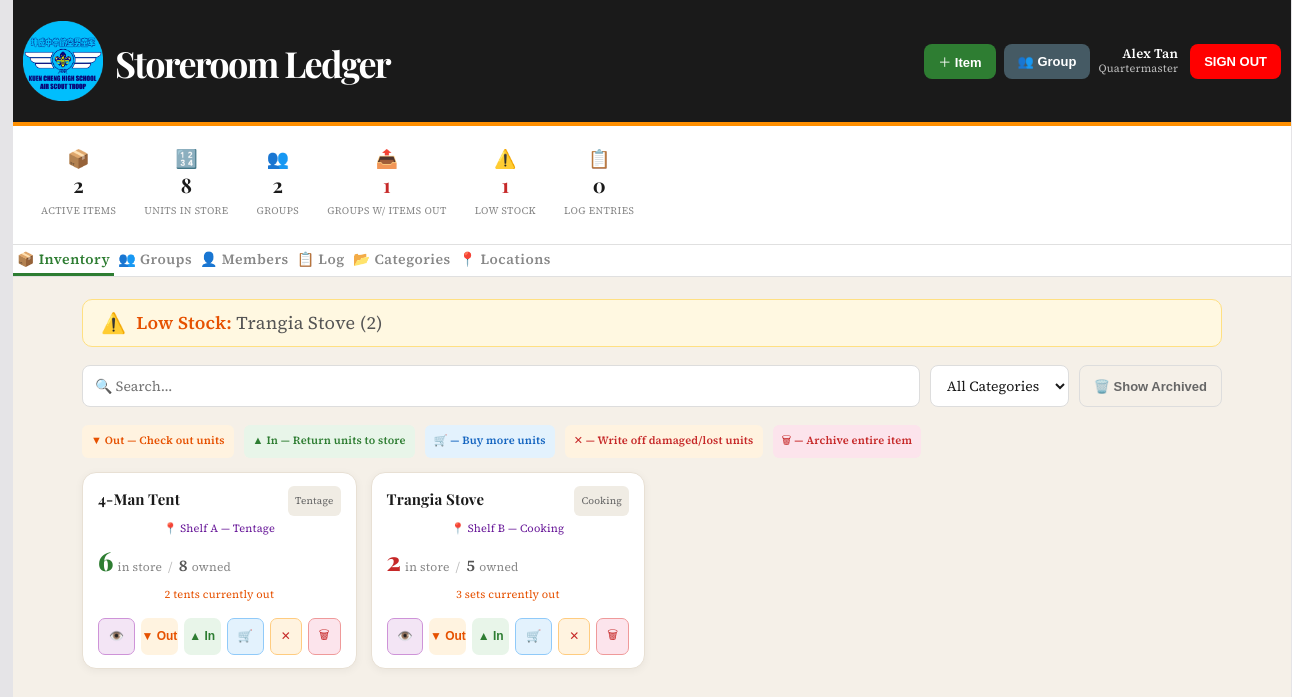
Test: tabs › has a Locations tab that lists locations
The width and height of the screenshot is (1292, 697).
Expected: the heading "4-Man Tent" is shown, top-left (98, 486), bottom-right (180, 512)
Click the button "📍 Locations".
click(505, 261)  # box top-left (455, 245), bottom-right (555, 276)
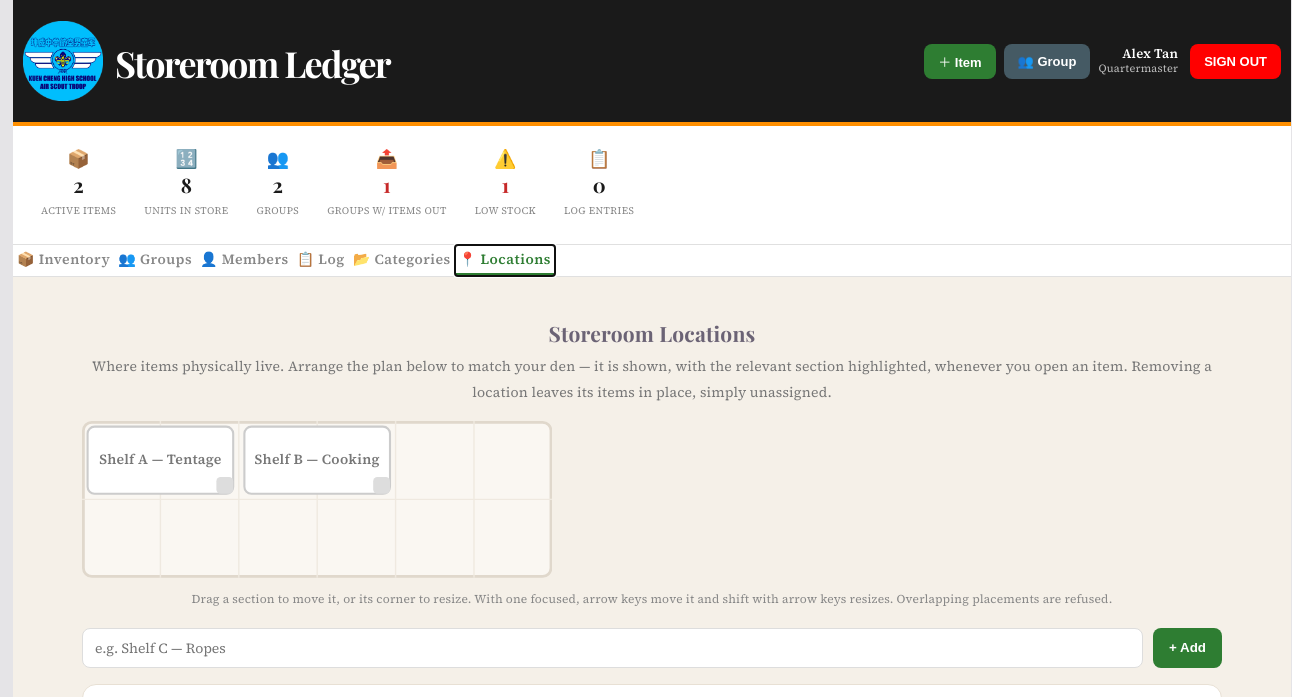
Expected: the text "Shelf B — Cooking" is shown, top-left (255, 449), bottom-right (380, 468)
Expected: the heading "Storeroom Locations" is shown, top-left (548, 319), bottom-right (755, 347)
